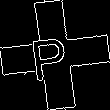P_N: (33, 28, 77, 82)
